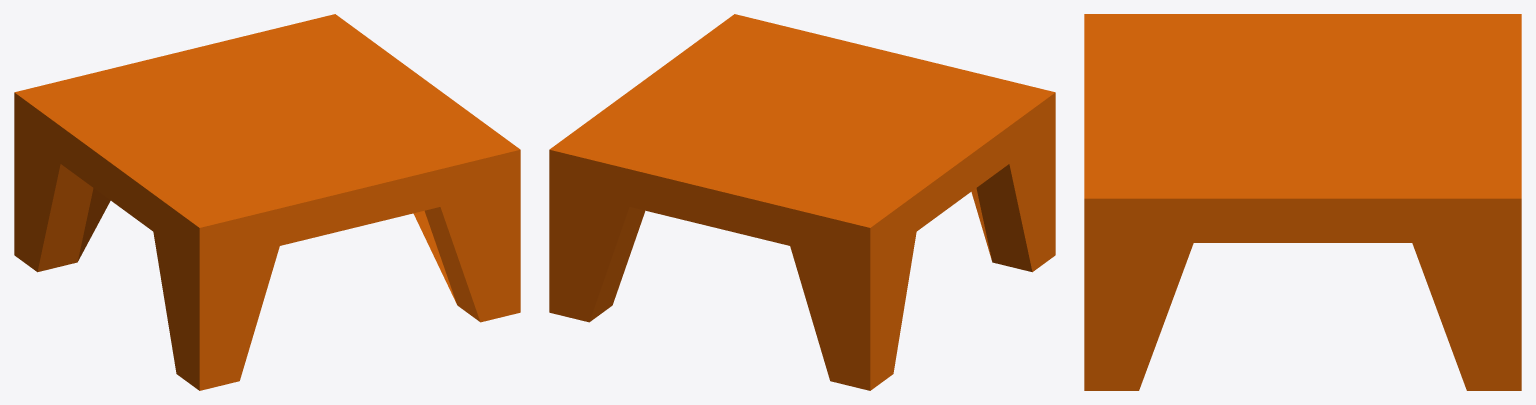
File: small-desk.fbx
3 views of the same model, side by side, from view 1: azimuth 30°, elevation 25°; view 2: azimuth 150°, elevation 25°; view 3: azimuth 270°, elevation 25° (orthographic). The views are drawn at different scales.
Parts seen in each view (by area): view 1: Cube; view 2: Cube; view 3: Cube.
Boxes of the visible parts, x1,y1,x2,y2 form: Cube: (14,14,520,390); Cube: (549,14,1055,390); Cube: (1084,14,1521,390).
Size of what is drawn, in the model's own units: 300 by 146 by 300.
